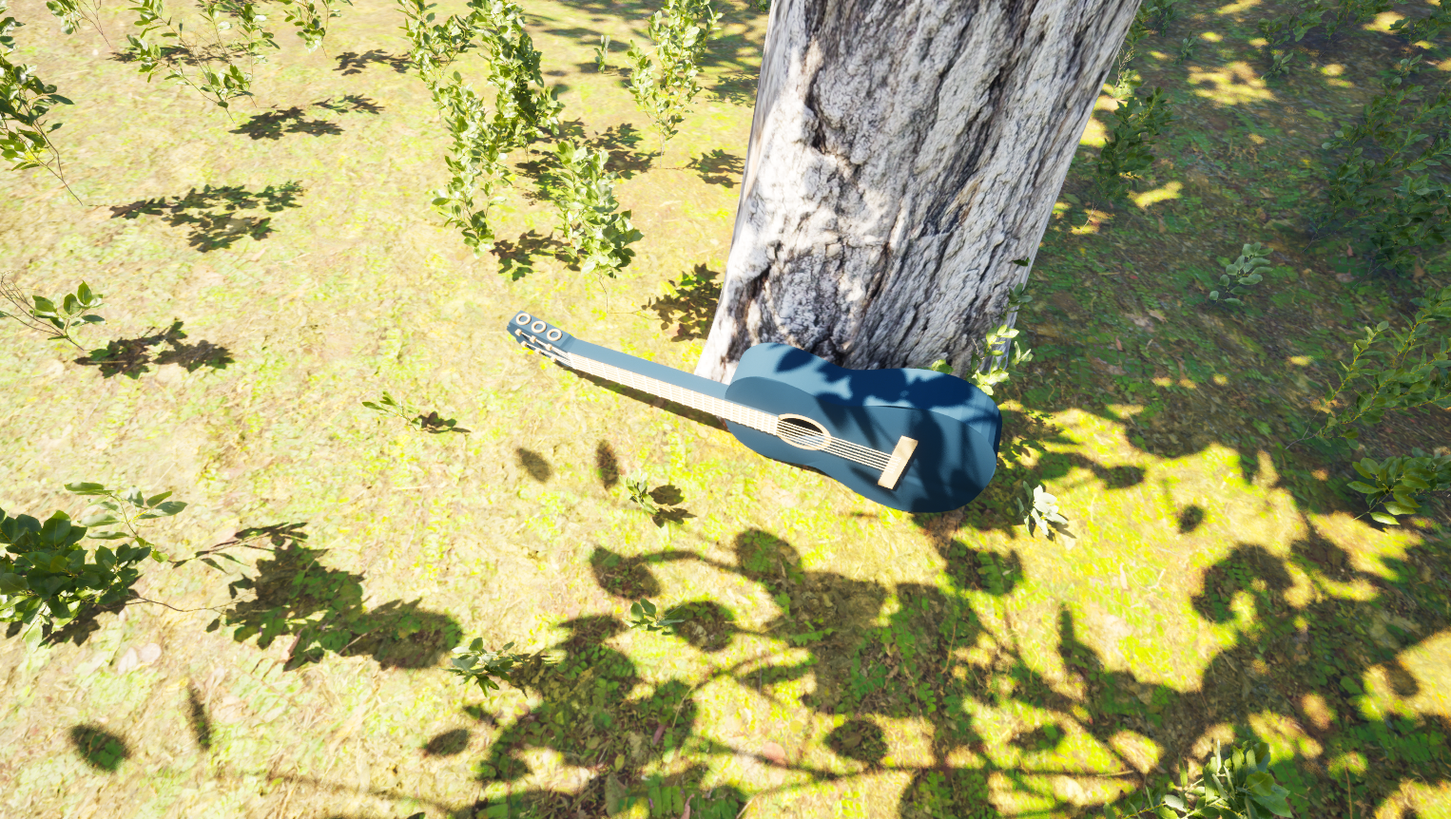Guitar: (468, 244, 1033, 531)
